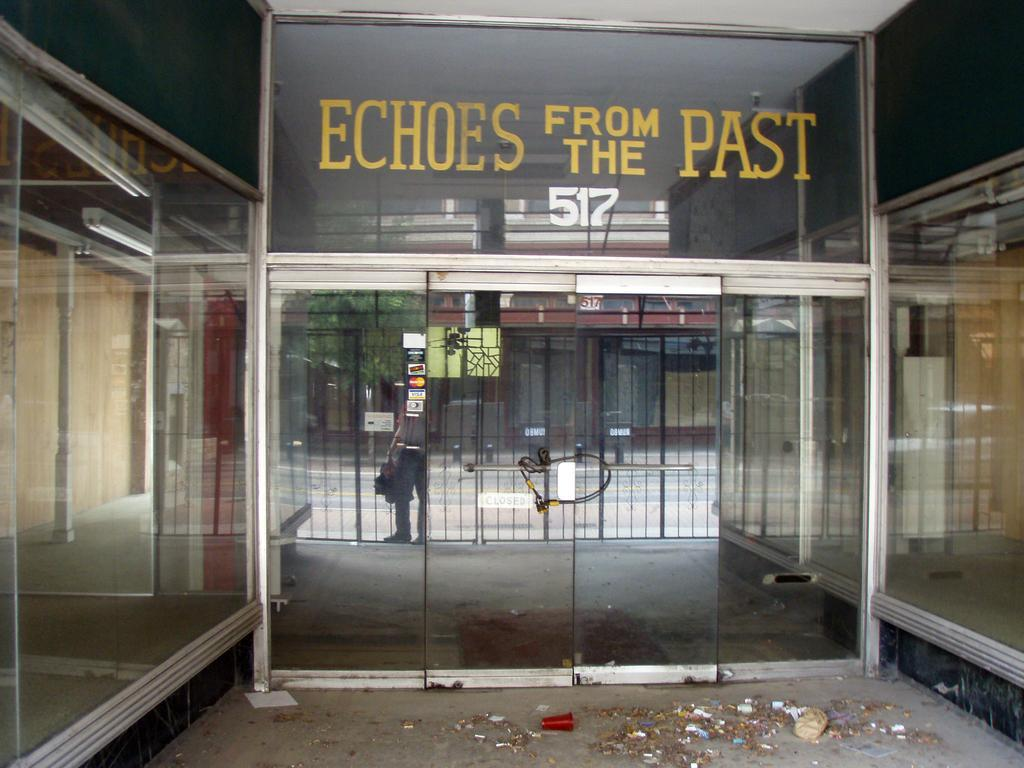door: (428, 285, 570, 668), (582, 294, 718, 673)
handle: (584, 458, 698, 479), (467, 457, 559, 478)
